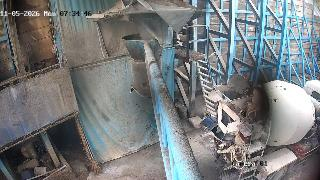cement_mixer_truck: (211, 80, 320, 180)
swing_chute: (122, 34, 171, 99)
